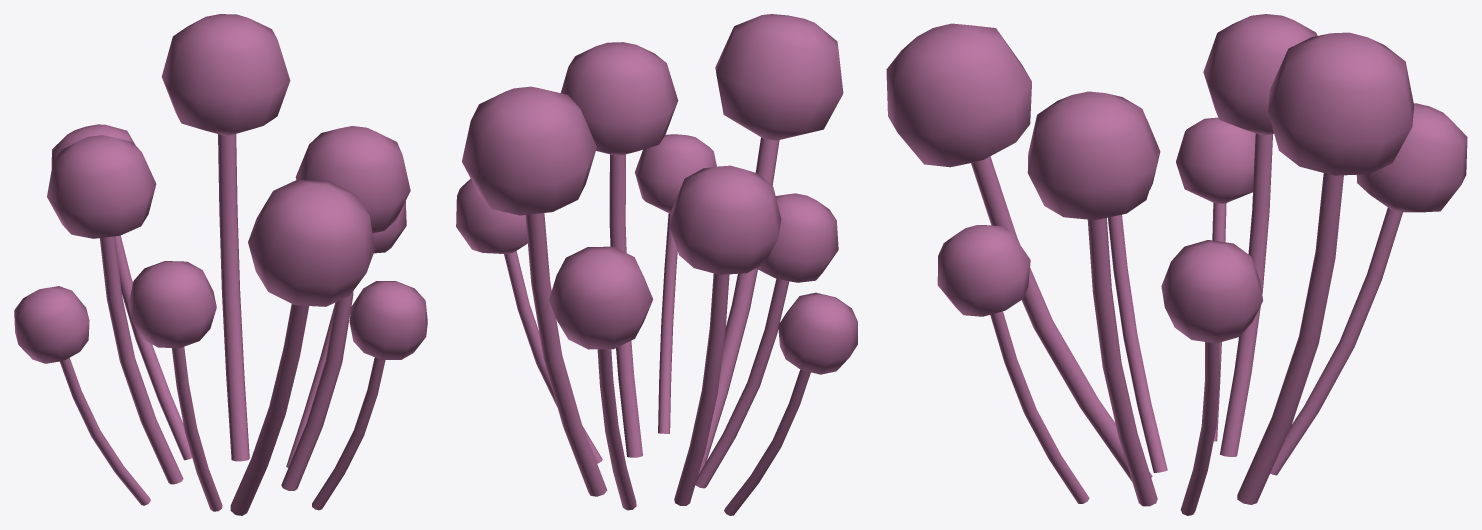
The model's file is Sporeflower_Cluster2.fbx.
3 renders of one model, left to right at view 1: azimuth 30°, elevation 25°; view 2: azimuth 150°, elevation 25°; view 3: azimuth 270°, elevation 25°, orthographic. The views are drawn at different scales.
Parts seen in each view (by area): view 1: SporeFlowerCluster_2; view 2: SporeFlowerCluster_2; view 3: SporeFlowerCluster_2.
Part boxes in pixels (box(x1,y1,x2,y2)): SporeFlowerCluster_2: box(14, 14, 427, 515); SporeFlowerCluster_2: box(456, 14, 857, 515); SporeFlowerCluster_2: box(886, 14, 1467, 515).
Size of the model in its own units: 154 by 160 by 174.
